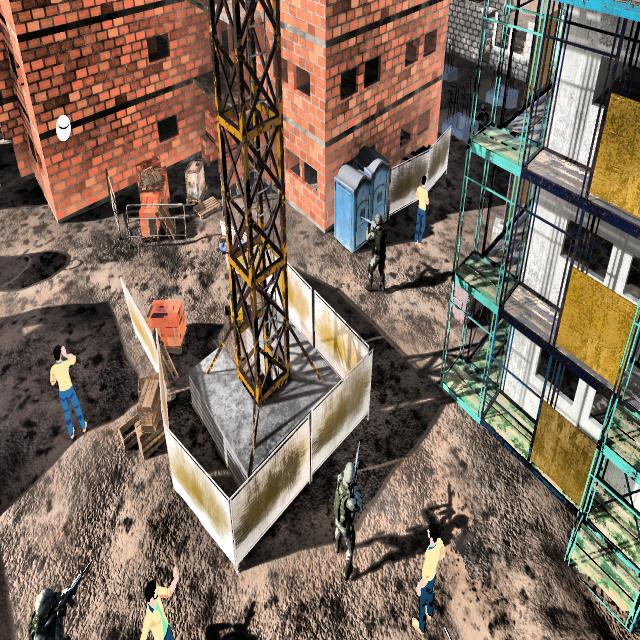bad: (329, 450, 367, 592), (23, 562, 88, 640), (358, 204, 392, 294), (472, 97, 490, 135)
good: (402, 504, 447, 637), (45, 331, 92, 455), (131, 552, 193, 640), (411, 168, 431, 255)
